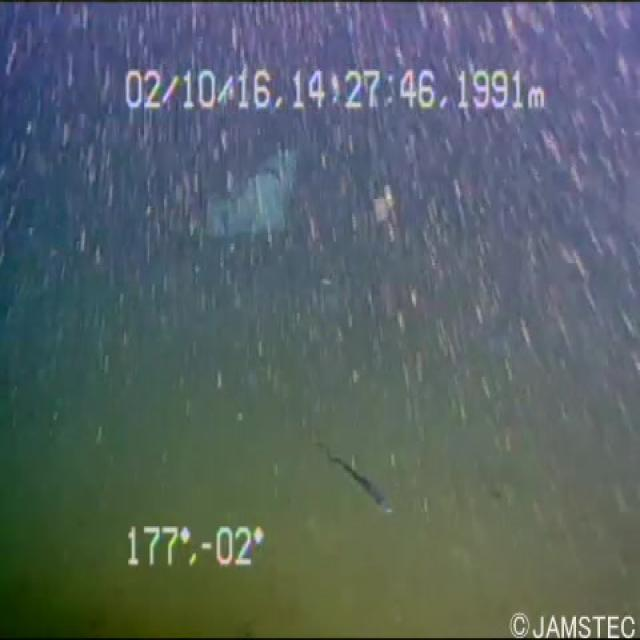plastic: (185, 121, 294, 254)
